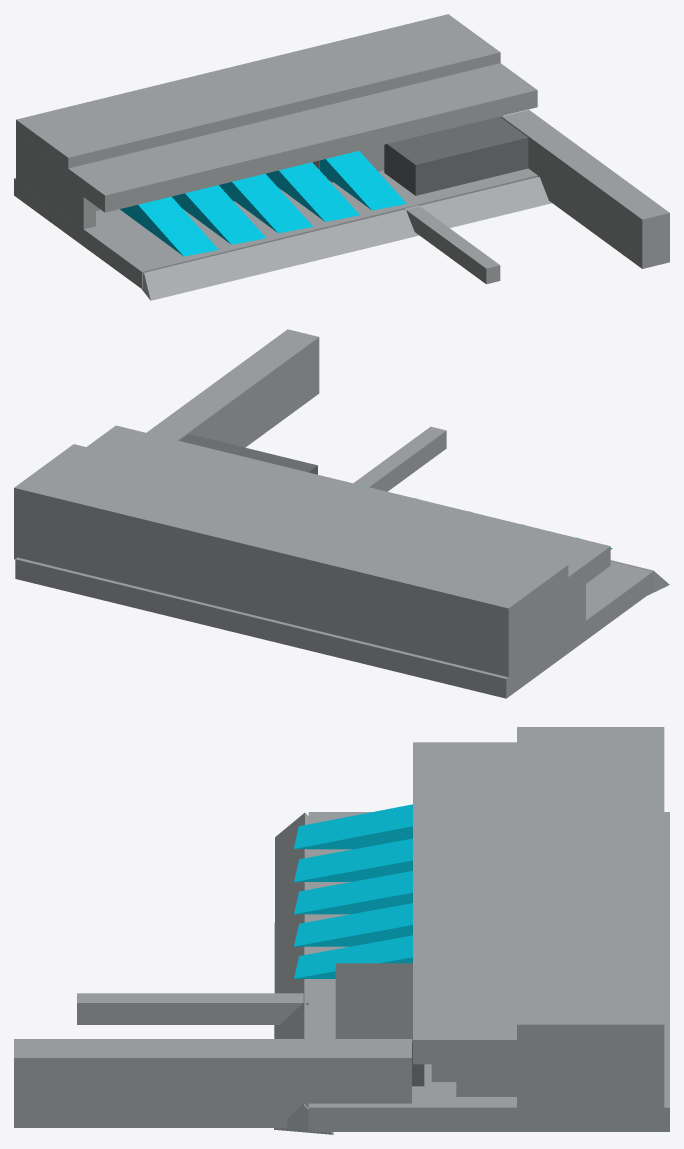
The model's file is hydro.glb.
3 renders of one model, top to bottom at view 1: azimuth 30°, elevation 25°; view 2: azimuth 150°, elevation 25°; view 3: azimuth 270°, elevation 25°, orthographic. The views are drawn at different scales.
Visible parts, largest first — view 1: obj_0; view 2: obj_0; view 3: obj_0.
Part boxes in pixels (x1,y1,x2,y2): obj_0: (14,14,669,300); obj_0: (14,329,669,698); obj_0: (14,727,669,1134).
Bounding box in the file's own units: 27.88 × 4.87 × 25.78.
